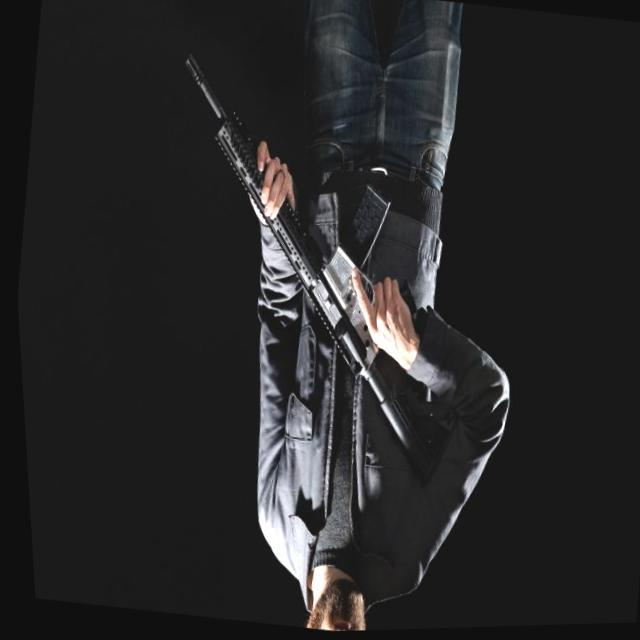gun: (130, 51, 474, 477)
